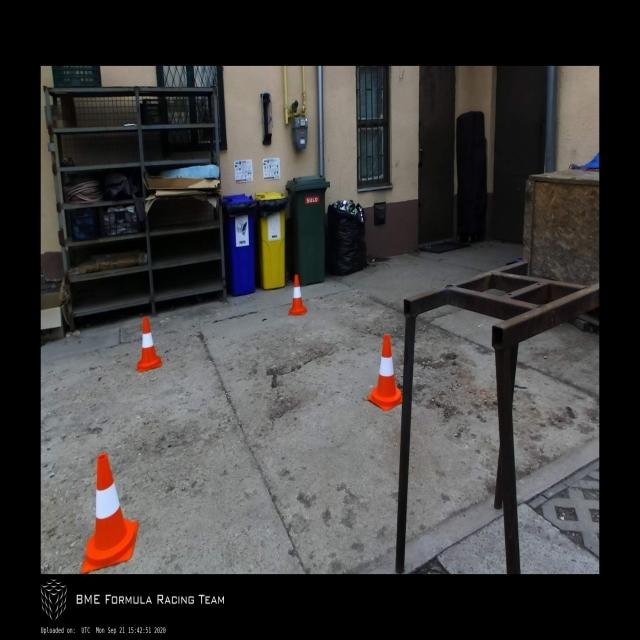orange_cone: (82, 455, 138, 573), (367, 336, 402, 410), (136, 318, 162, 372), (288, 274, 308, 316)
